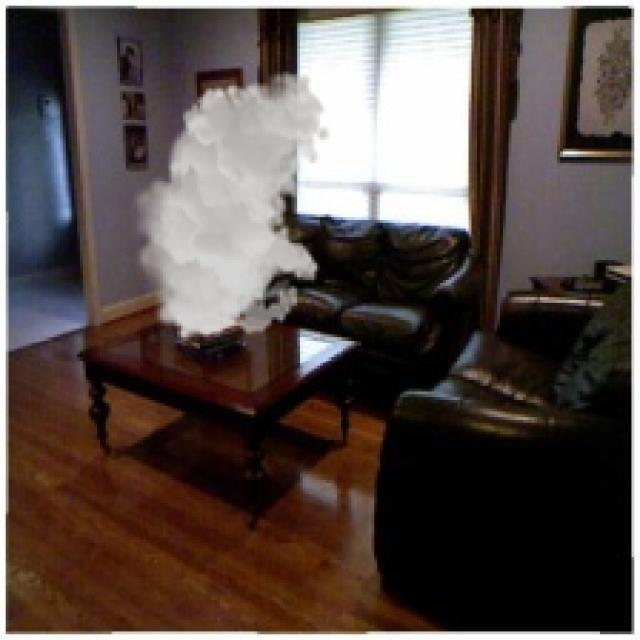Smoke: (128, 71, 332, 343)
